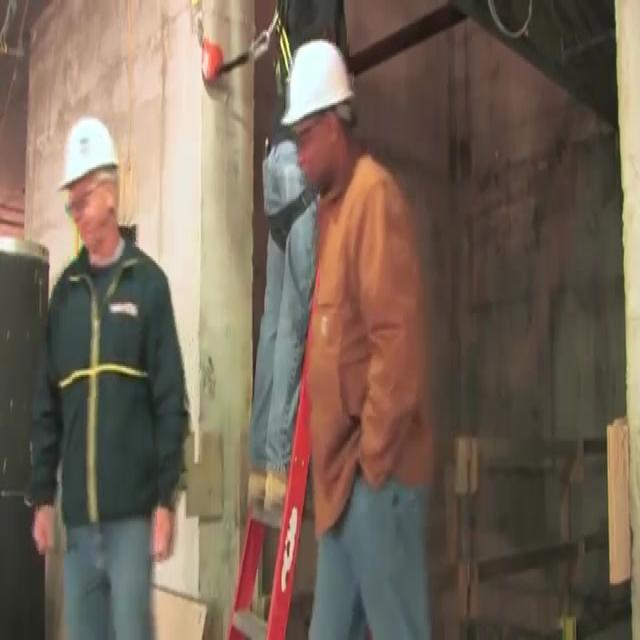Safety-Helmet: (275, 28, 365, 138), (49, 100, 130, 204)
